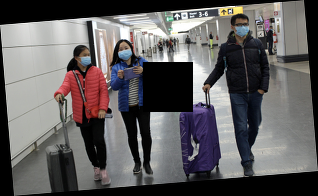with_mask: (117, 45, 134, 62), (234, 21, 250, 38), (78, 51, 92, 67), (271, 27, 274, 32), (186, 35, 190, 38), (159, 40, 161, 43), (166, 39, 169, 41), (167, 38, 169, 41), (173, 37, 175, 39), (177, 37, 178, 40)
without_mask: (211, 31, 213, 35)
